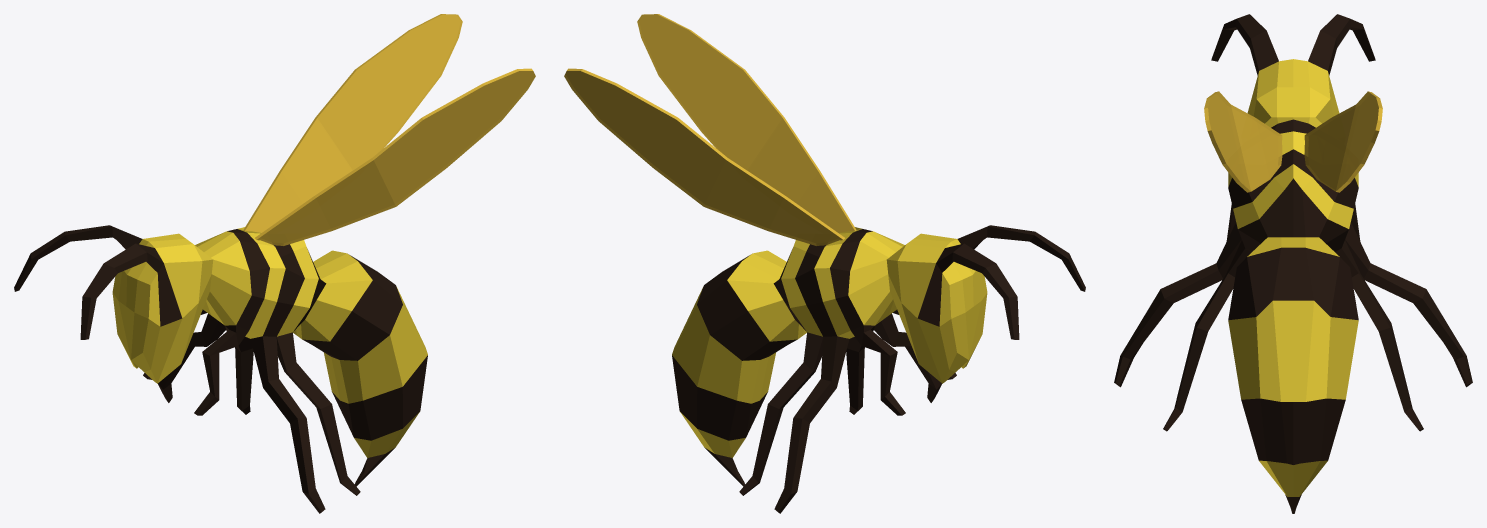
The model's file is stylised wasp joined normalised.fbx.
3 renders of one model, left to right at view 1: azimuth 30°, elevation 25°; view 2: azimuth 150°, elevation 25°; view 3: azimuth 270°, elevation 25°, orthographic. The views are drawn at different scales.
Parts seen in each view (by area): view 1: Plane.001; view 2: Plane.001; view 3: Plane.001.
Part boxes in pixels (<box>): Plane.001: <box>14,14,535,513</box>; Plane.001: <box>564,14,1085,513</box>; Plane.001: <box>1114,14,1472,513</box>.
Bounding box in the file's own units: 403 × 356 × 243.
